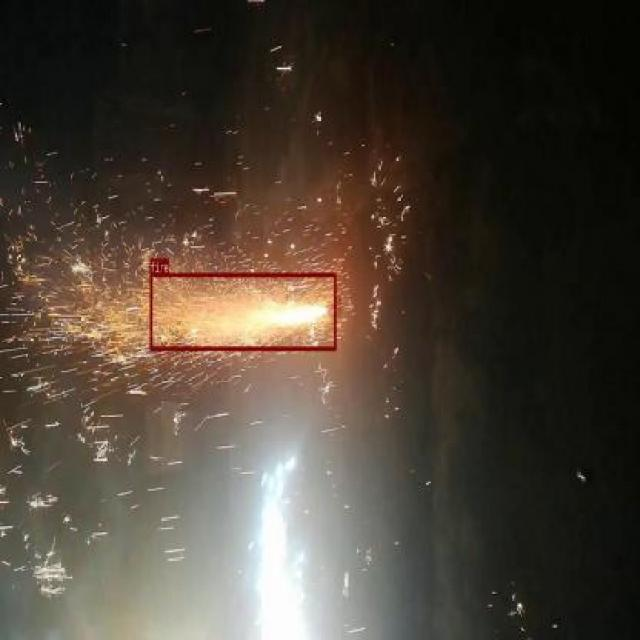Fire: (150, 272, 336, 350)
